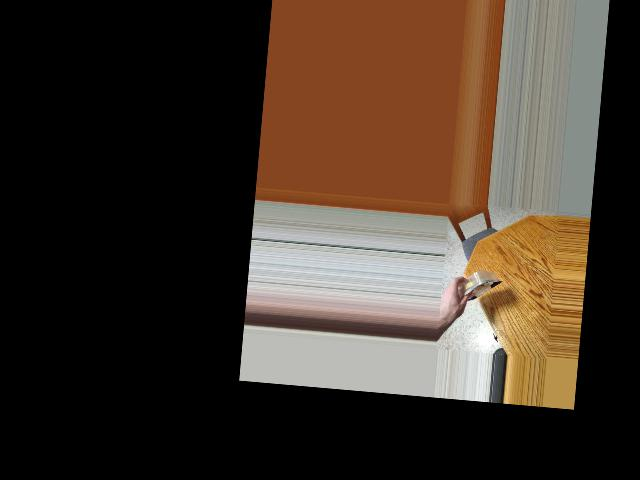cheese: (450, 262, 498, 318)
